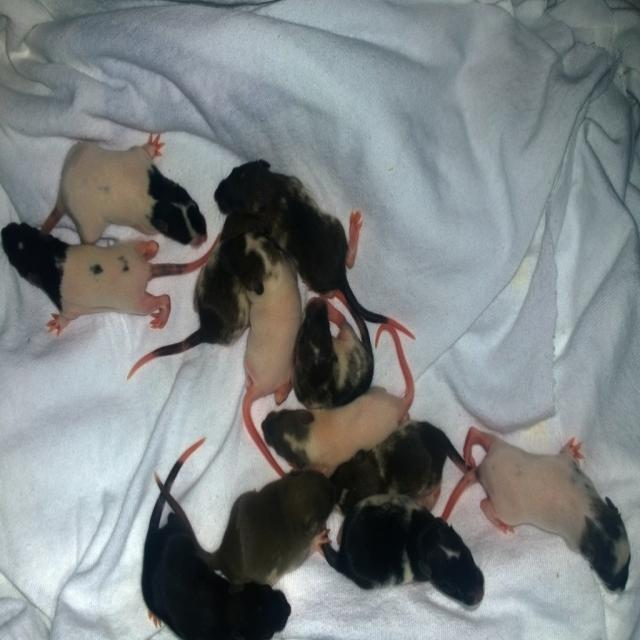rat: (214, 157, 417, 342), (446, 430, 634, 598), (139, 437, 292, 640), (0, 218, 224, 335), (261, 321, 414, 477), (151, 464, 334, 590), (116, 214, 247, 382), (38, 128, 213, 249), (321, 494, 486, 605), (237, 234, 303, 478), (329, 421, 473, 512), (290, 291, 375, 409)
